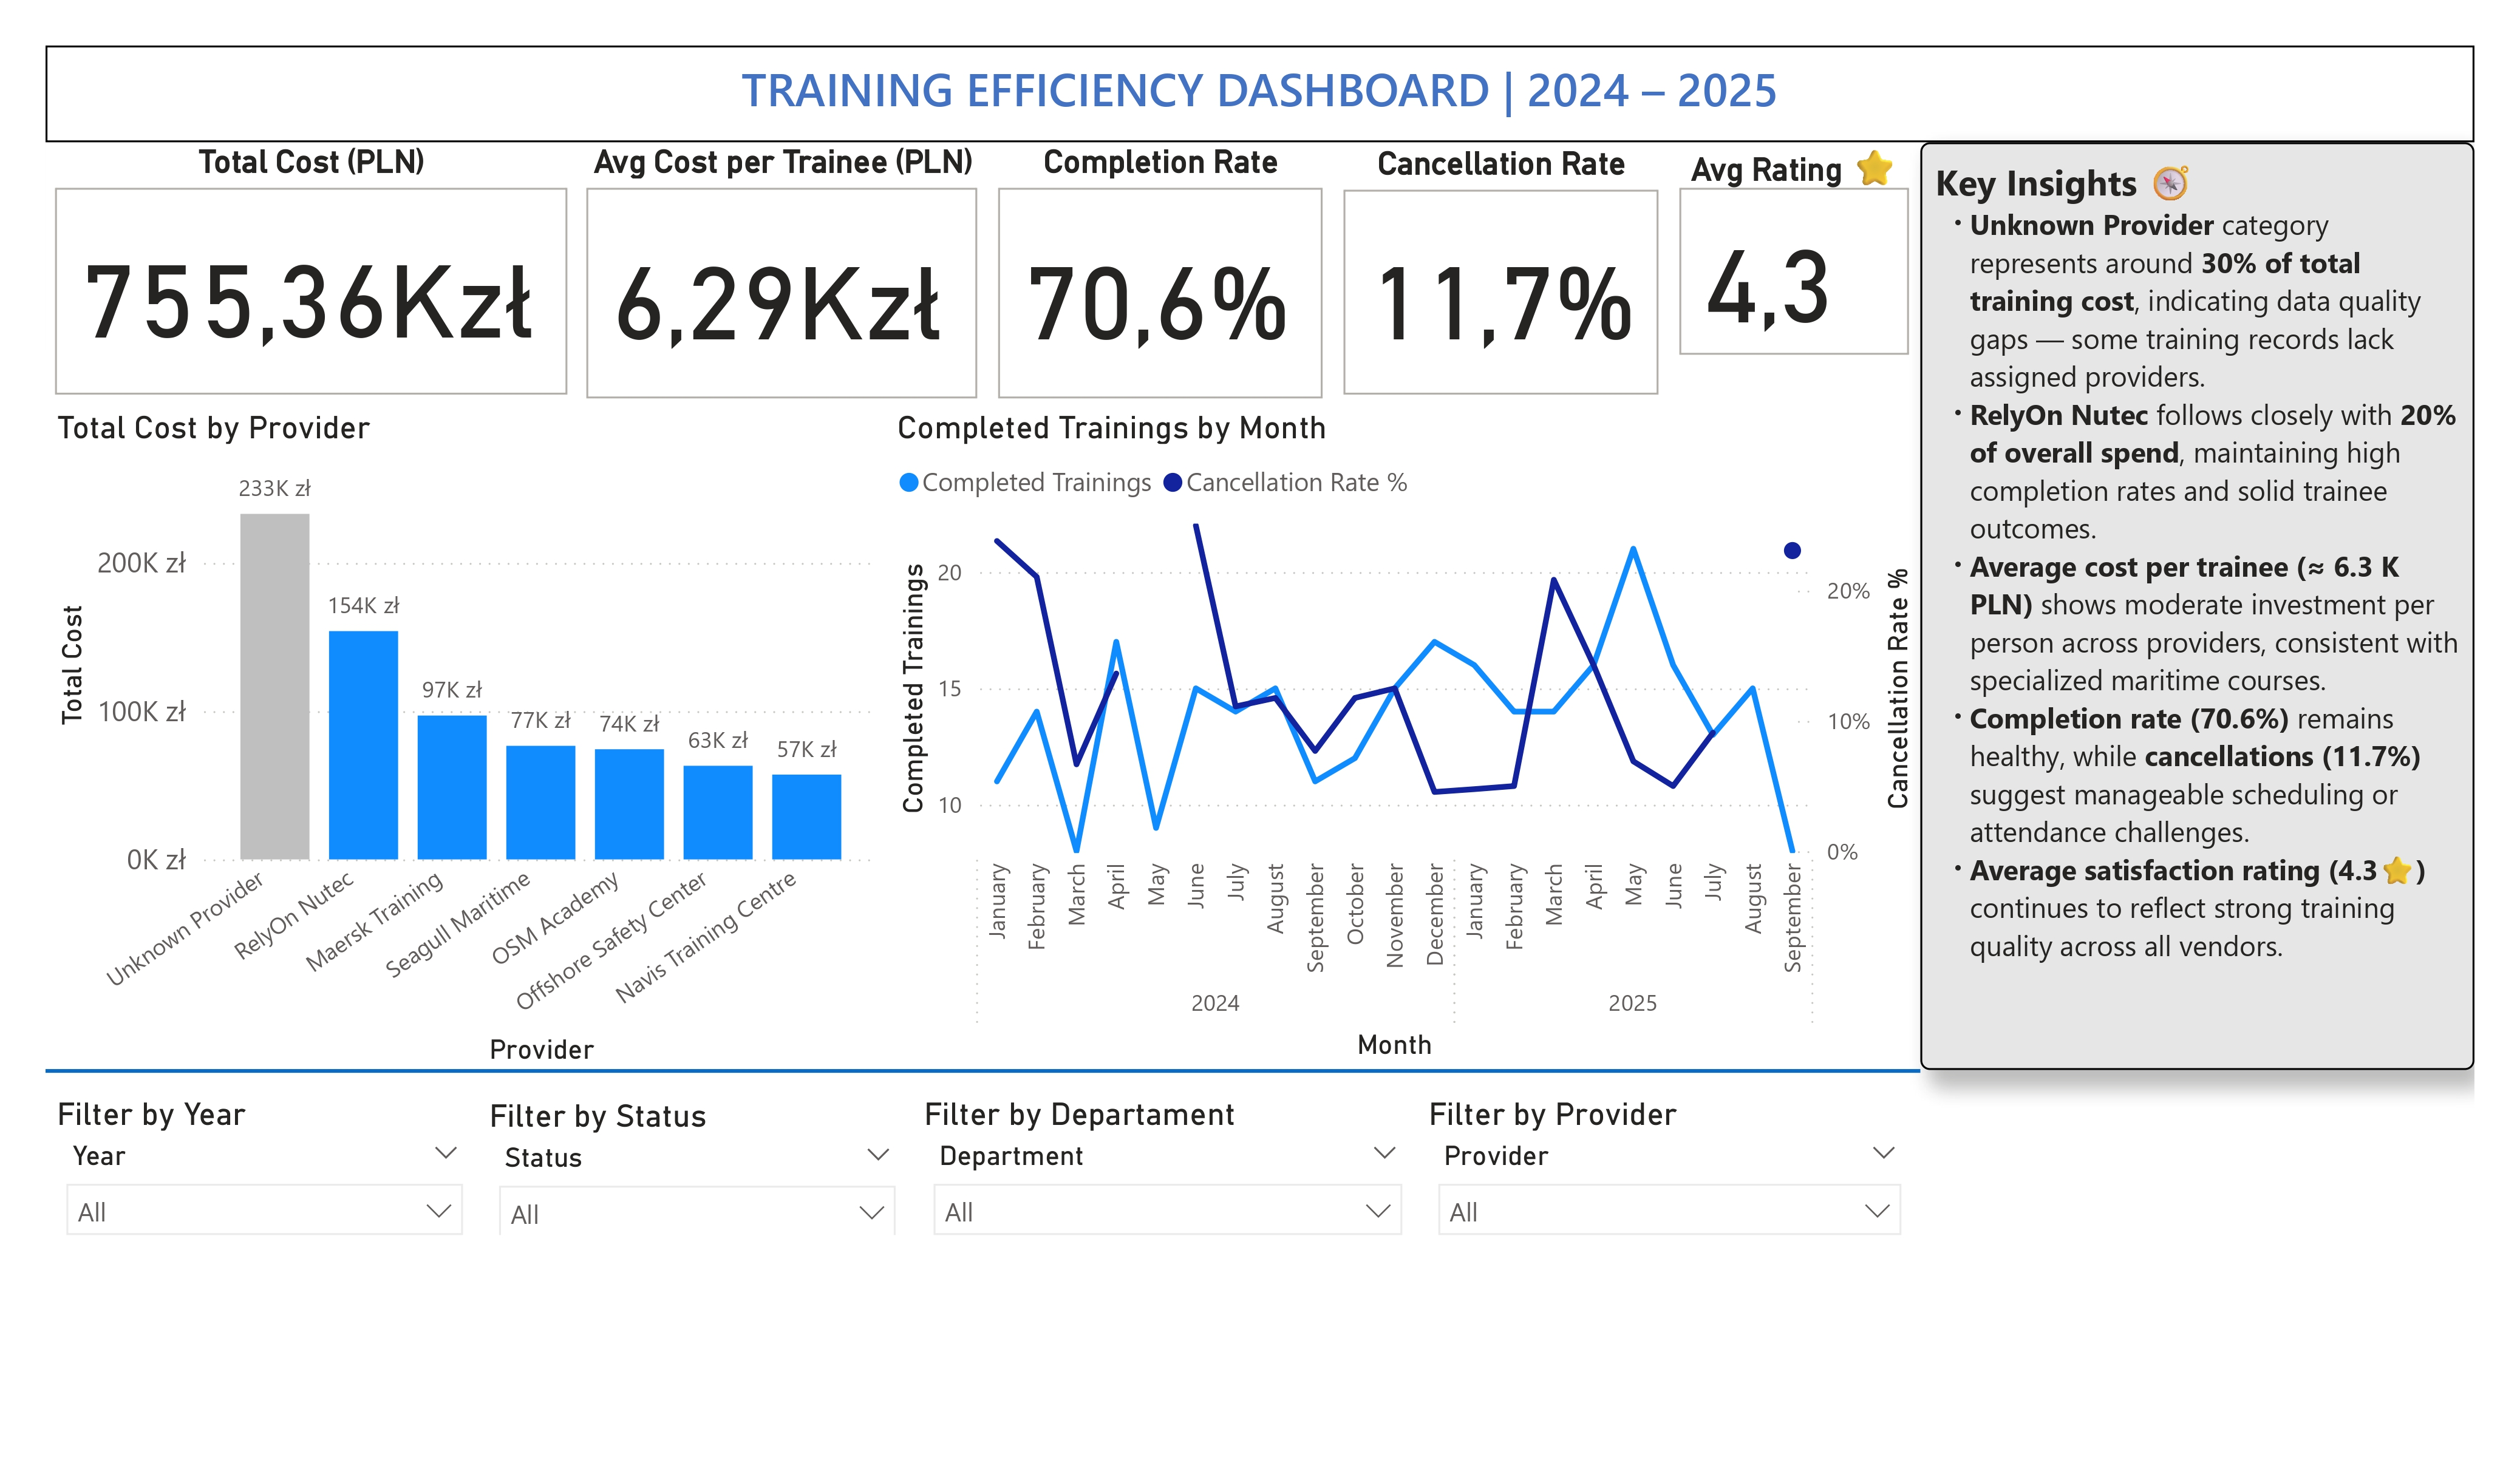

This screenshot's page, from the dashboard's own definition file:
{"tool":"powerbi","page":{"name":"Page 1","canvas":[1280,720],"ordinal":0},"visuals":[{"type":"cardVisual","title":"Total Cost (PLN)","fields":{"Data":["Training.Total Cost"]},"box":[0,51.1,280.1,140.1],"z":0},{"type":"cardVisual","title":"Avg Cost per Trainee (PLN)","fields":{"Data":["Training.Avg Cost per Trainee"]},"box":[280.1,51.1,216.7,140.1],"z":1000},{"type":"cardVisual","title":"Completion Rate","fields":{"Data":["Training.Completion Rate %"]},"box":[496.9,51.1,182,140.1],"z":2000},{"type":"cardVisual","title":"Cancellation Rate","fields":{"Data":["Training.Cancellation Rate %"]},"box":[678.8,52.1,176.9,139],"z":3000},{"type":"cardVisual","title":"Avg Rating ⭐","fields":{"Data":["Training.Avg Rating (Completed)"]},"box":[855.7,51.1,131.9,140.1],"z":4000},{"type":"clusteredColumnChart","fields":{"Category":["Training.Provider"],"Y":["Training.Total Cost"]},"box":[0.9,191.3,443.4,350.9],"z":5000},{"type":"lineChart","title":"Completed Trainings by Month","fields":{"Y":["Training.Completed Trainings"],"Y2":["Training.Cancellation Rate %"],"Category":["Date.Date.Variation.Date Hierarchy.Year","Date.Date.Variation.Date Hierarchy.Month"]},"box":[444.3,191.3,544.1,349.1],"z":6000},{"type":"slicer","title":"Filter by Year","fields":{"Values":["Date.Year"]},"box":[1,553.1,229,73.6],"z":7000},{"type":"slicer","title":"Filter by Provider","fields":{"Values":["Training.Provider"]},"box":[723.8,553.1,263.8,73.6],"z":8000},{"type":"slicer","title":"Filter by Departament","fields":{"Values":["Training.Department"]},"box":[458,553.1,266.8,73.6],"z":9000},{"type":"slicer","title":"Filter by Status","fields":{"Values":["Training.Status"]},"box":[229,554.1,229,72.6],"z":10000},{"type":"textbox","box":[987.5,50.8,292.9,489.7],"z":11000},{"type":"textbox","box":[0,0,1280,51.1],"z":12000},{"type":"shape","box":[0,526.5,987.6,27.6],"z":13000}]}

Visuals, with their boxes in screenshot pixels (x1, y1, x2, y2):
"Total Cost (PLN)" cardVisual: (46, 143, 577, 408)
"Avg Cost per Trainee (PLN)" cardVisual: (577, 143, 989, 408)
"Completion Rate" cardVisual: (989, 143, 1334, 408)
"Cancellation Rate" cardVisual: (1333, 144, 1669, 408)
"Avg Rating ⭐" cardVisual: (1669, 143, 1919, 408)
clusteredColumnChart - Training.Provider x Training.Total Cost: (47, 409, 888, 1074)
"Completed Trainings by Month" lineChart: (888, 409, 1921, 1071)
"Filter by Year" slicer: (47, 1095, 482, 1234)
"Filter by Provider" slicer: (1419, 1095, 1919, 1234)
"Filter by Departament" slicer: (914, 1095, 1421, 1234)
"Filter by Status" slicer: (480, 1097, 914, 1234)
textbox: (1919, 142, 2474, 1071)
textbox: (46, 46, 2474, 143)
shape: (46, 1044, 1919, 1097)
